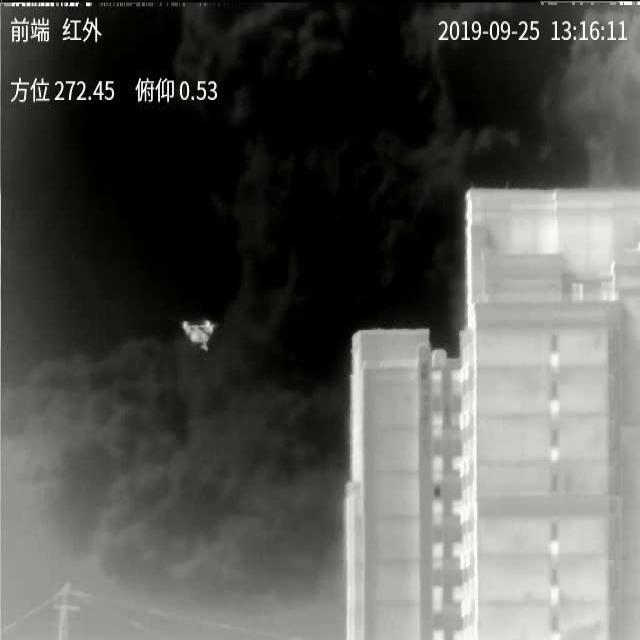drone: (182, 320, 216, 351)
